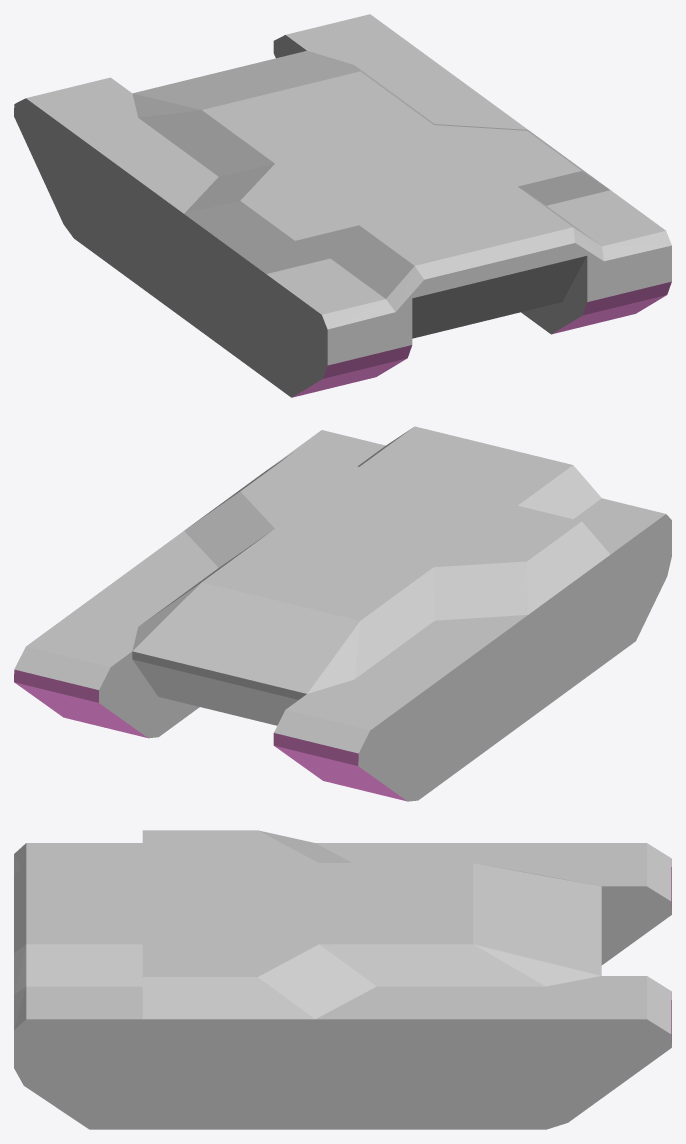
3 views of the same model, one above another, from view 1: azimuth 30°, elevation 25°; view 2: azimuth 150°, elevation 25°; view 3: azimuth 270°, elevation 25° (orthographic). The views are drawn at different scales.
Parts seen in each view (by area): view 1: Hull; view 2: Hull; view 3: Hull.
Part boxes in pixels (left/top/right/bottom): Hull: left=14, top=14, right=671, bottom=397; Hull: left=14, top=426, right=671, bottom=801; Hull: left=14, top=830, right=671, bottom=1129.
Size of the model in its own units: 343 by 125 by 541.
